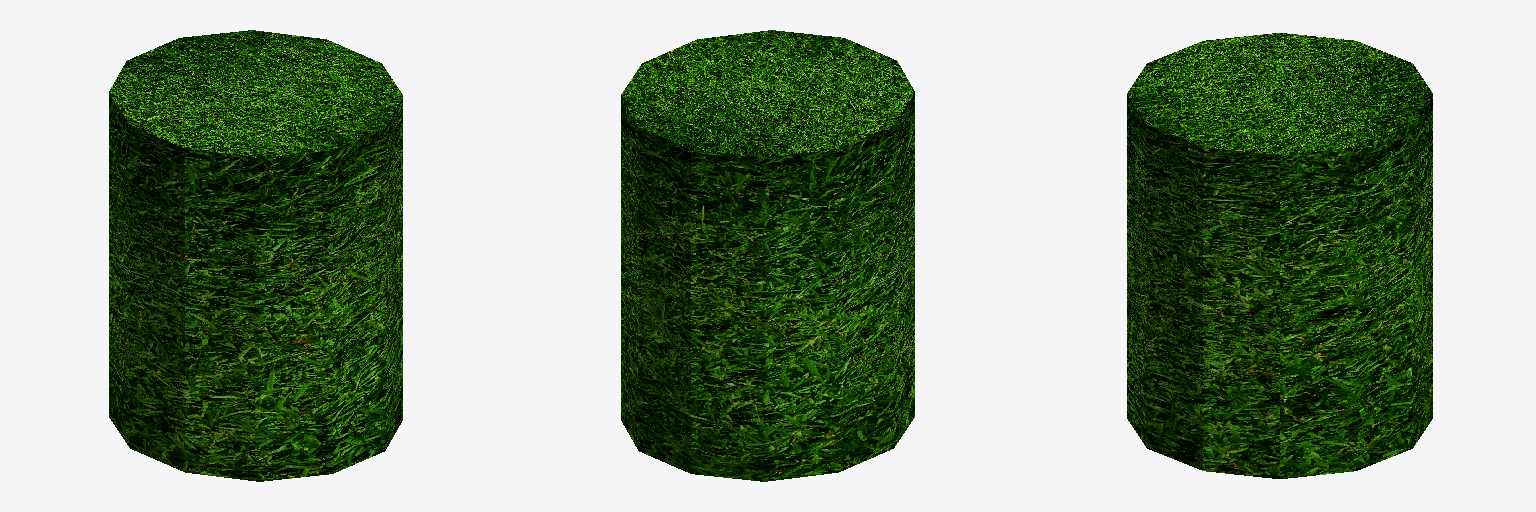
3 views of the same model, side by side, from view 1: azimuth 30°, elevation 25°; view 2: azimuth 150°, elevation 25°; view 3: azimuth 270°, elevation 25° (orthographic).
Parts seen in each view (by area): view 1: Cylinder01; view 2: Cylinder01; view 3: Cylinder01.
Part boxes in pixels (x1,y1,x2,y2): Cylinder01: (109,30,402,481); Cylinder01: (621,30,914,481); Cylinder01: (1127,33,1432,478).
Bounding box in the file's own units: 0.8751 × 1.08 × 0.9235.
1 materials, 1 textured.